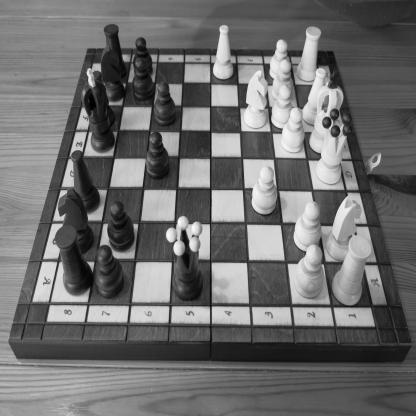black-bishop: (70, 150, 100, 214), (92, 70, 116, 128)
black-king: (80, 68, 116, 153)
black-knight: (58, 188, 93, 256), (100, 44, 126, 102)
black-pawn: (94, 244, 124, 299), (106, 200, 135, 251), (145, 130, 170, 180), (153, 81, 176, 127), (132, 36, 154, 80), (132, 57, 154, 101)
black-queen: (166, 216, 204, 301)
black-rook: (54, 224, 94, 296), (103, 23, 128, 80)
white-bishop: (302, 67, 326, 126), (213, 24, 234, 80)
white-king: (308, 70, 344, 154)
white-knight: (326, 195, 362, 262), (243, 70, 268, 129)
white-pawn: (294, 243, 324, 299), (293, 200, 323, 251), (251, 165, 278, 216), (281, 107, 306, 154), (270, 84, 293, 130), (271, 59, 293, 101), (269, 38, 291, 79)
white-queen: (316, 108, 353, 184)
white-rook: (331, 235, 372, 307), (296, 25, 322, 82)
